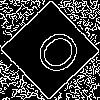O: (25, 25, 86, 86)
